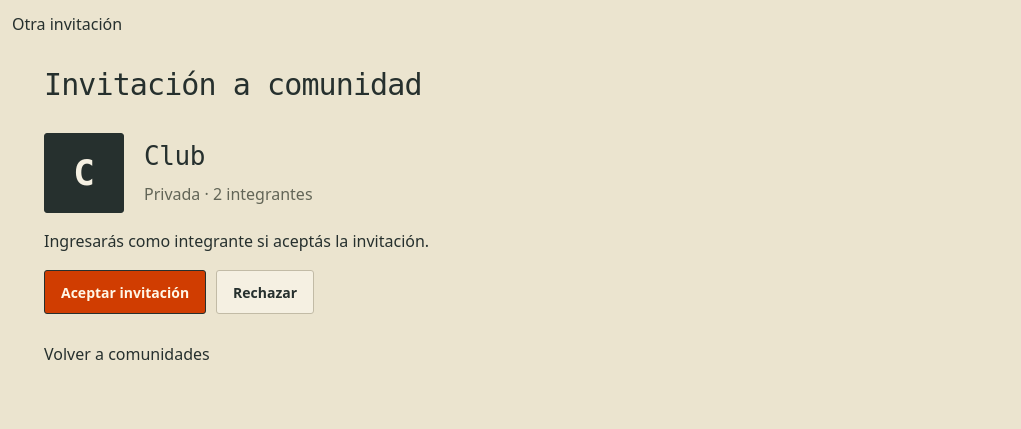
Test: una falla de aceptación conserva la vista previa y permite reintentar
Click the button "Aceptar invitación". click: point(125, 292)
box: [44,270,206,314]
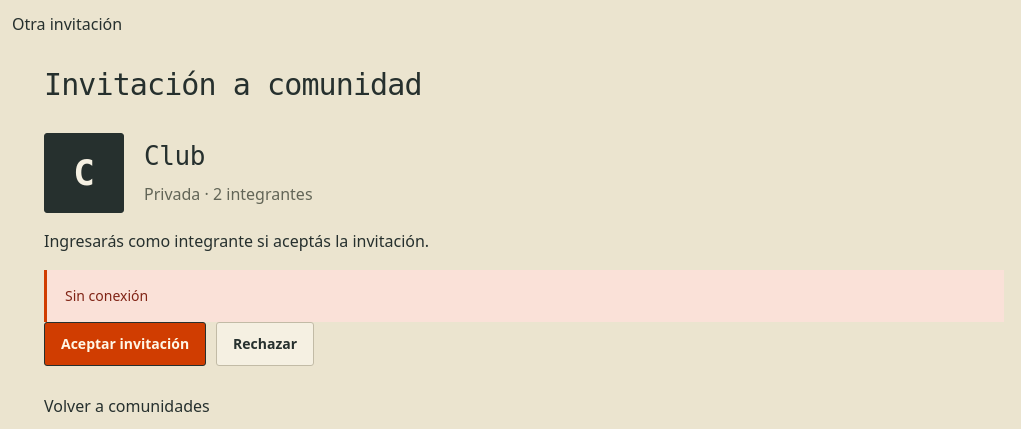
Expected: the message reads "Sin conexión", [65,286,148,305]
Click the button "Aceptar invitación". click: point(125, 344)
box: [44,322,206,366]
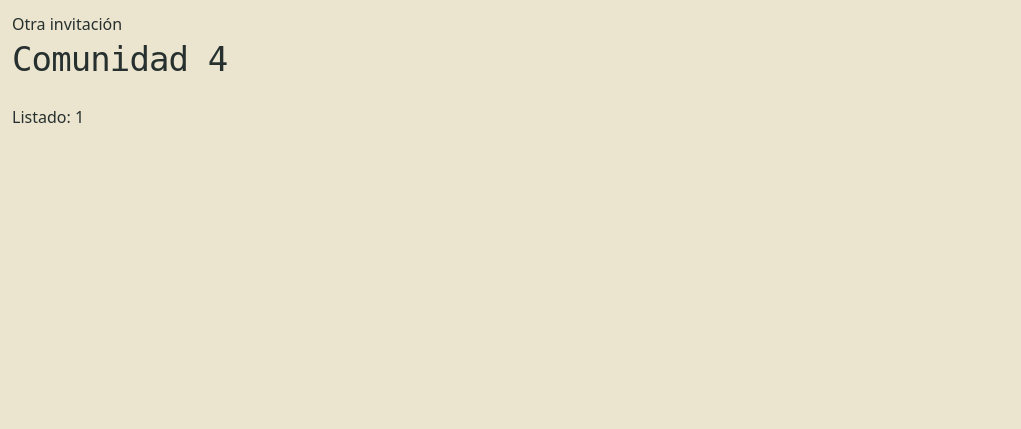
Expected: the heading "Comunidad 4" is shown, [12,39,227,79]
